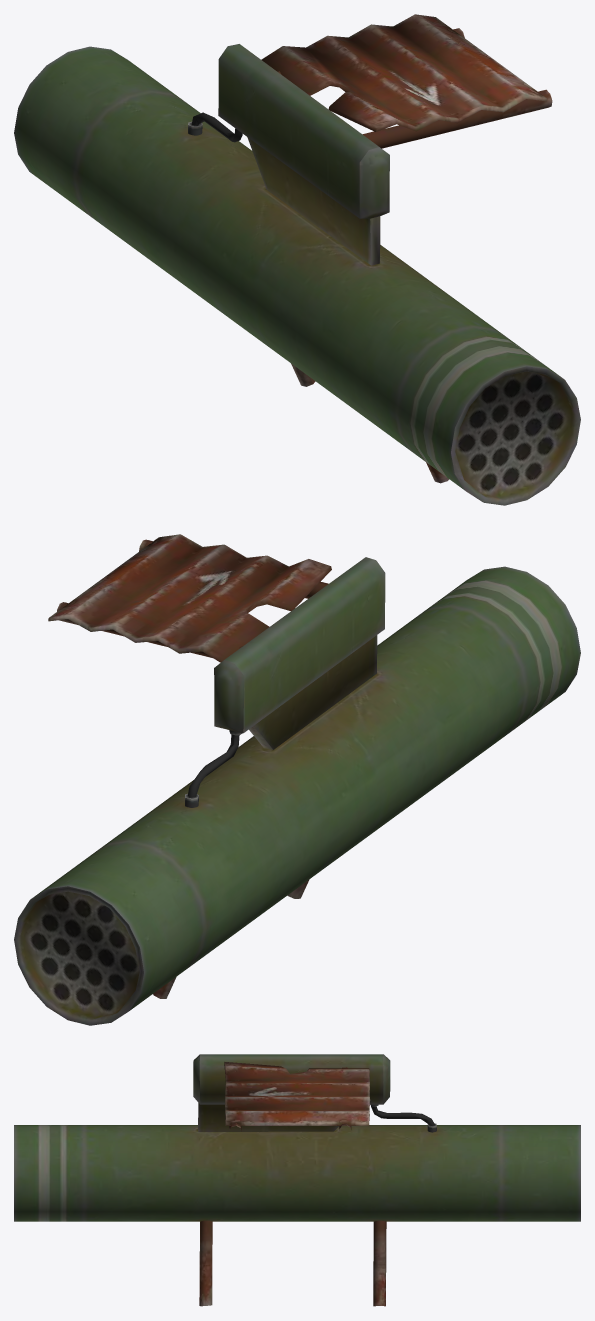
The model's file is ahmissilepod.glb.
3 renders of one model, top to bottom at view 1: azimuth 30°, elevation 25°; view 2: azimuth 150°, elevation 25°; view 3: azimuth 270°, elevation 25°, orthographic. The views are drawn at different scales.
Parts seen in each view (by area): view 1: MissilePod_LOD0; view 2: MissilePod_LOD0; view 3: MissilePod_LOD0.
Part boxes in pixels (left/top/right/bottom): MissilePod_LOD0: left=14, top=14, right=580, bottom=505; MissilePod_LOD0: left=14, top=534, right=580, bottom=1025; MissilePod_LOD0: left=14, top=1054, right=580, bottom=1306.
Size of the model in its own units: 0.7267 by 0.9308 by 2.06.
1 material, 1 textured.
